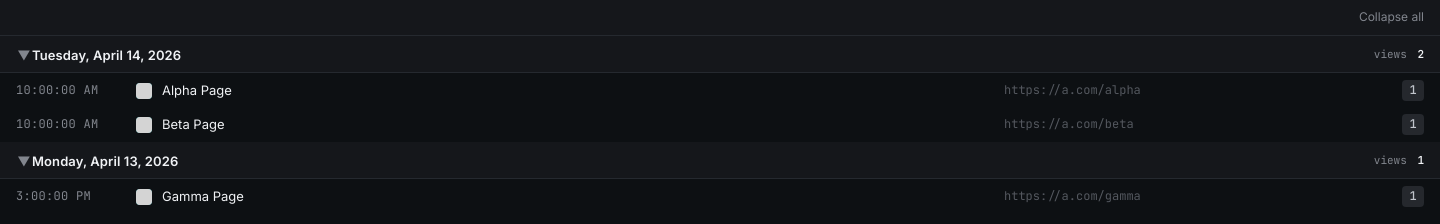
Scenario: HistoryList — collapse per day › restores rows when chevron is clicked again
Click the button named "Collapse group": (24, 55) [15,47,33,63]
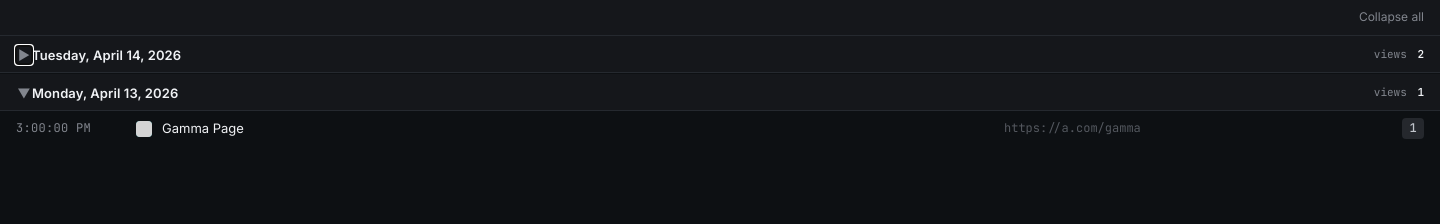
After collapse, button label changes to "Expand group"
Click the button named "Expand group": (24, 55) [16,46,32,64]
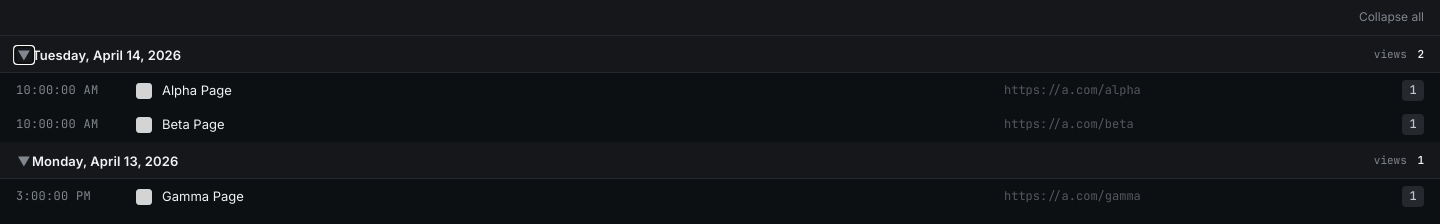
Now the text "Alpha Page" is shown, box [162,81,232,100]
Now the text "Beta Page" is shown, box [162,115,224,134]
